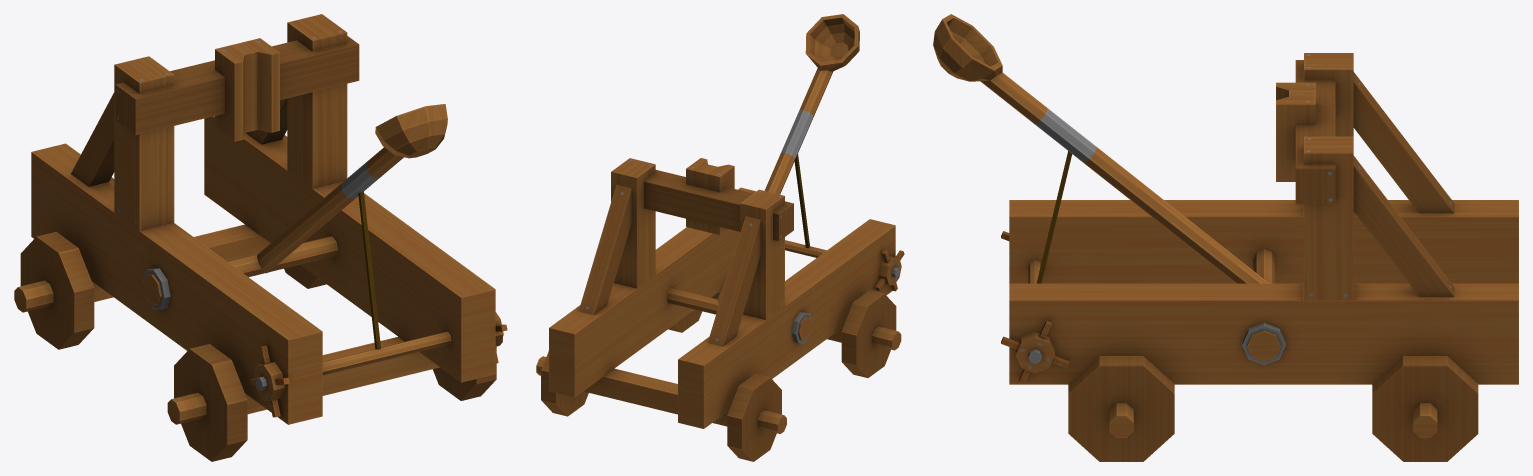
File: Catapult.obj
3 views of the same model, side by side, from view 1: azimuth 30°, elevation 25°; view 2: azimuth 150°, elevation 25°; view 3: azimuth 270°, elevation 25° (orthographic). The views are drawn at different scales.
Parts seen in each view (by area): view 1: Catapult_mesh; view 2: Catapult_mesh; view 3: Catapult_mesh.
Part boxes in pixels (x1,y1,x2,y2): Catapult_mesh: (14,14,507,461); Catapult_mesh: (536,14,904,461); Catapult_mesh: (933,14,1518,461).
Size of the model in its own units: 9.35 by 10.52 by 14.79.
Materials: 1 (1 with a texture image).
